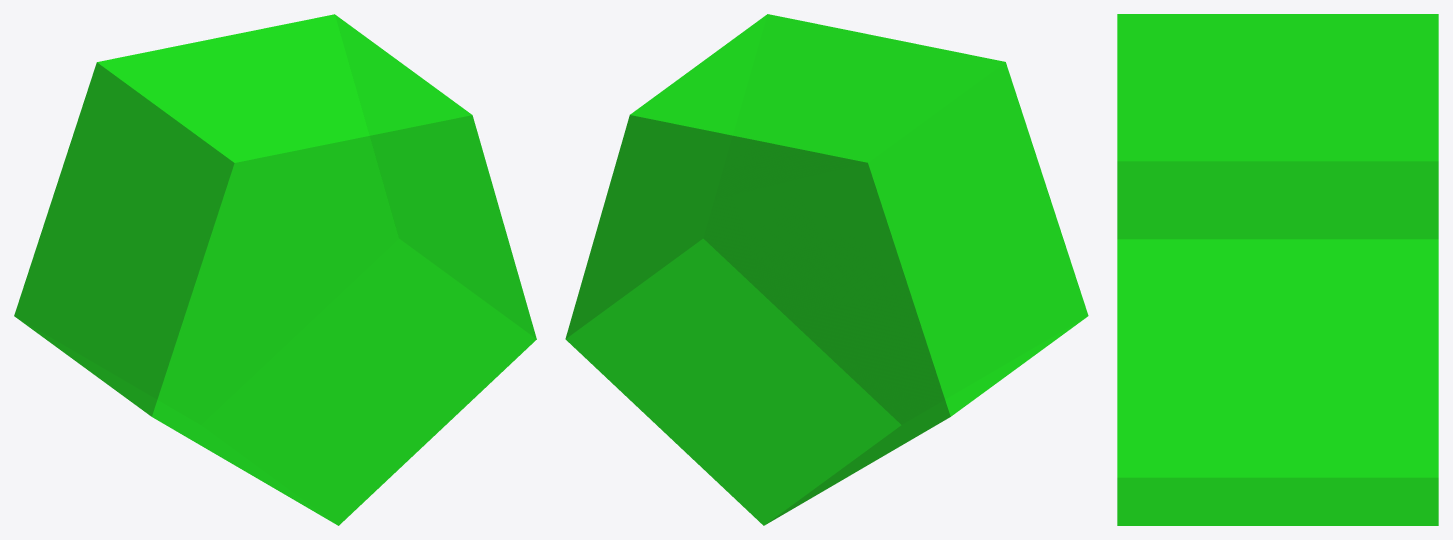
3 views of the same model, side by side, from view 1: azimuth 30°, elevation 25°; view 2: azimuth 150°, elevation 25°; view 3: azimuth 270°, elevation 25° (orthographic). The views are drawn at different scales.
Parts seen in each view (by area): view 1: root; view 2: root; view 3: root.
Part boxes in pixels (x1,y1,x2,y2): root: (14,14,536,525); root: (565,14,1088,525); root: (1117,14,1438,525).
Bounding box in the file's own units: 5.83 × 5.61 × 3.61.
